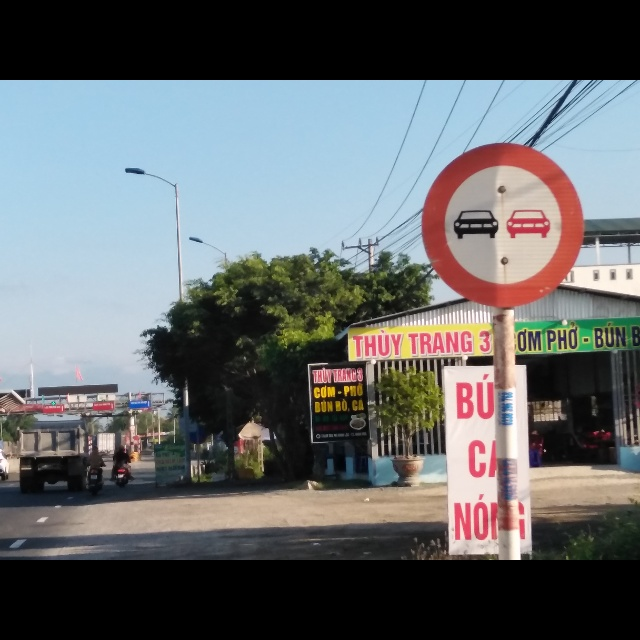Cấm vượt: (420, 141, 587, 310)
